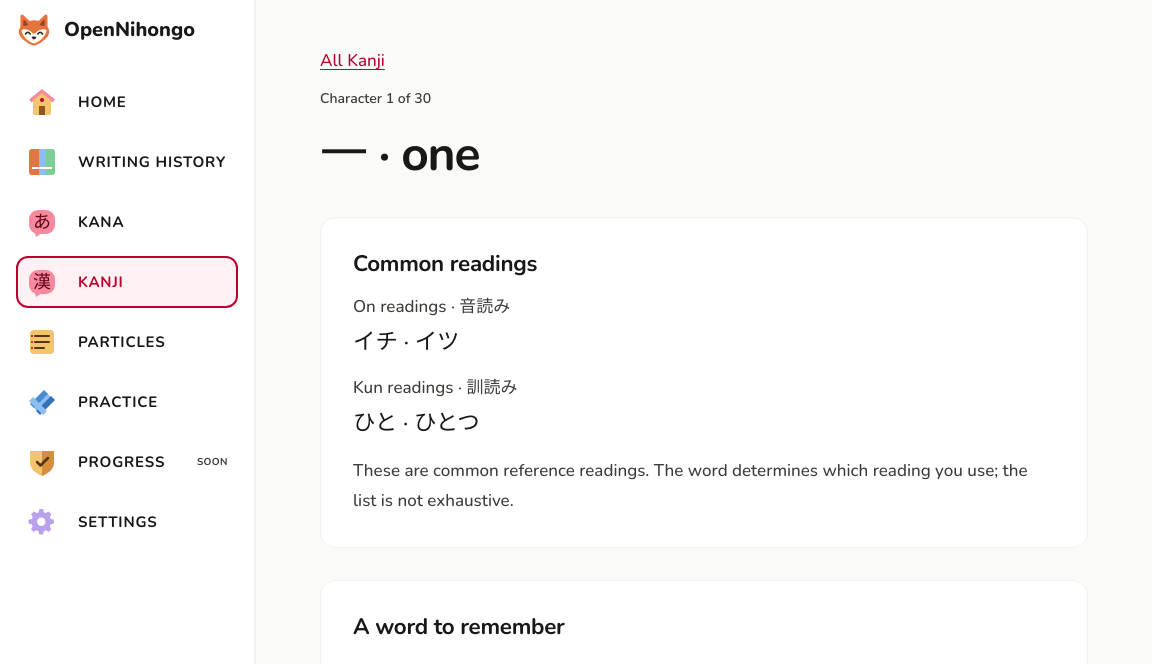
Test: supports keyboard answers and resets feedback when changing characters
Expected: the heading "一 · one" is shown, [320, 121, 479, 187]
Press Enter
(page scrolled)
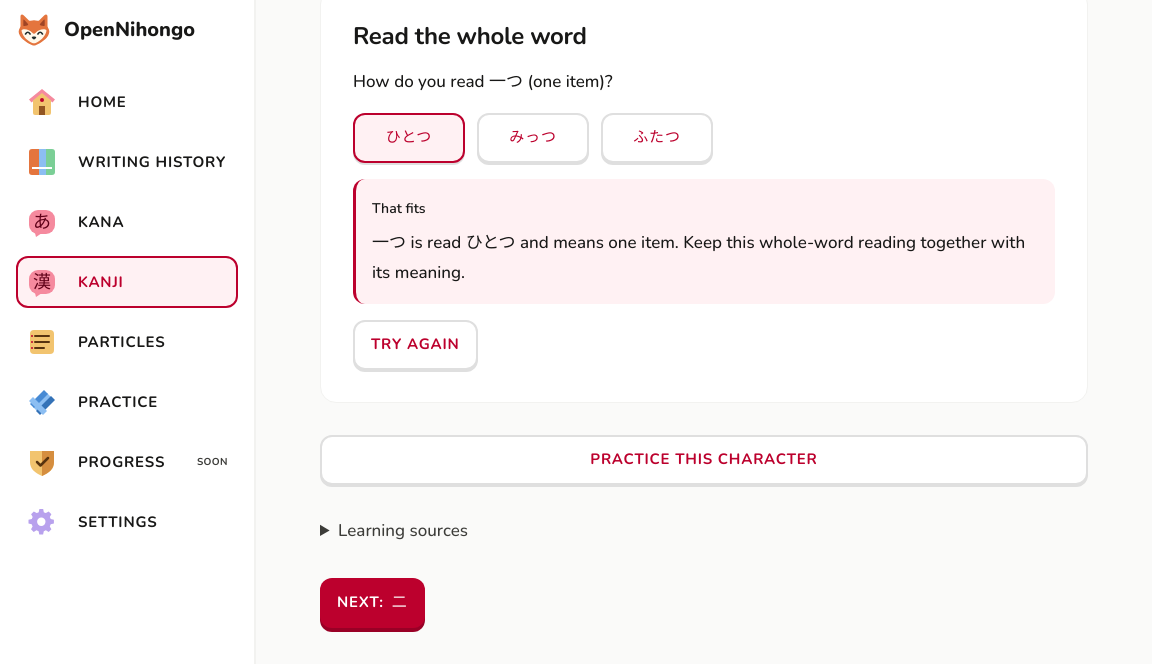
Now the message shows "That fits", box [372, 199, 426, 218]
Type keys " "
(page scrolled)
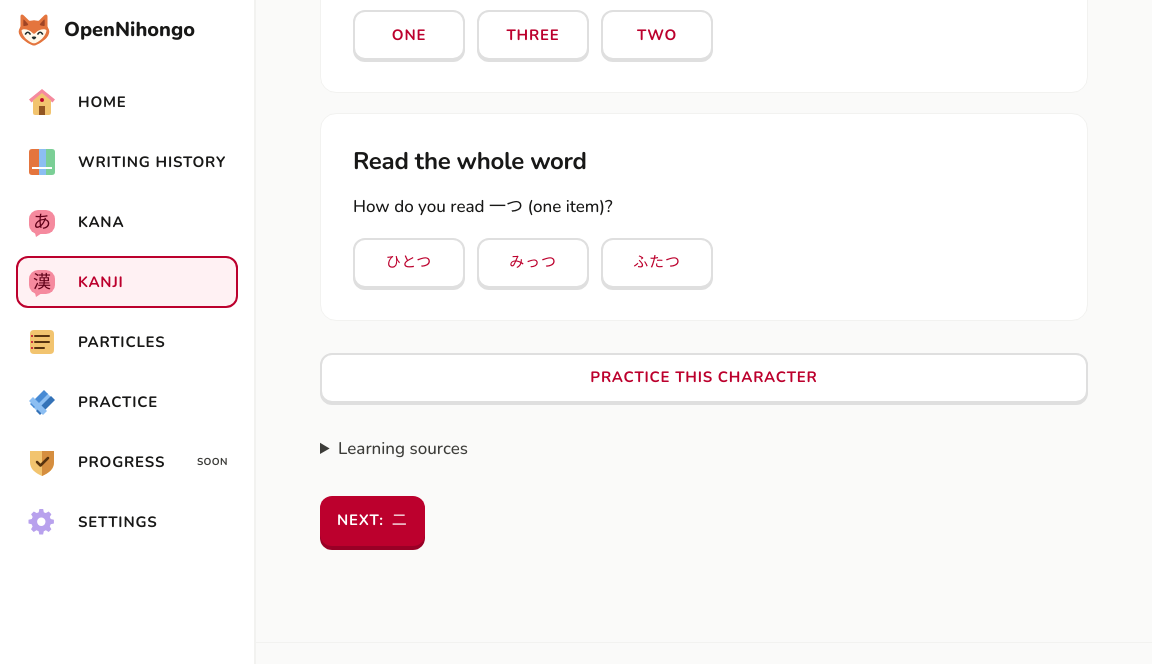
Now the message is gone
Click the button "ふたつ" at coordinates (657, 263), box [601, 238, 713, 288]
(page scrolled)
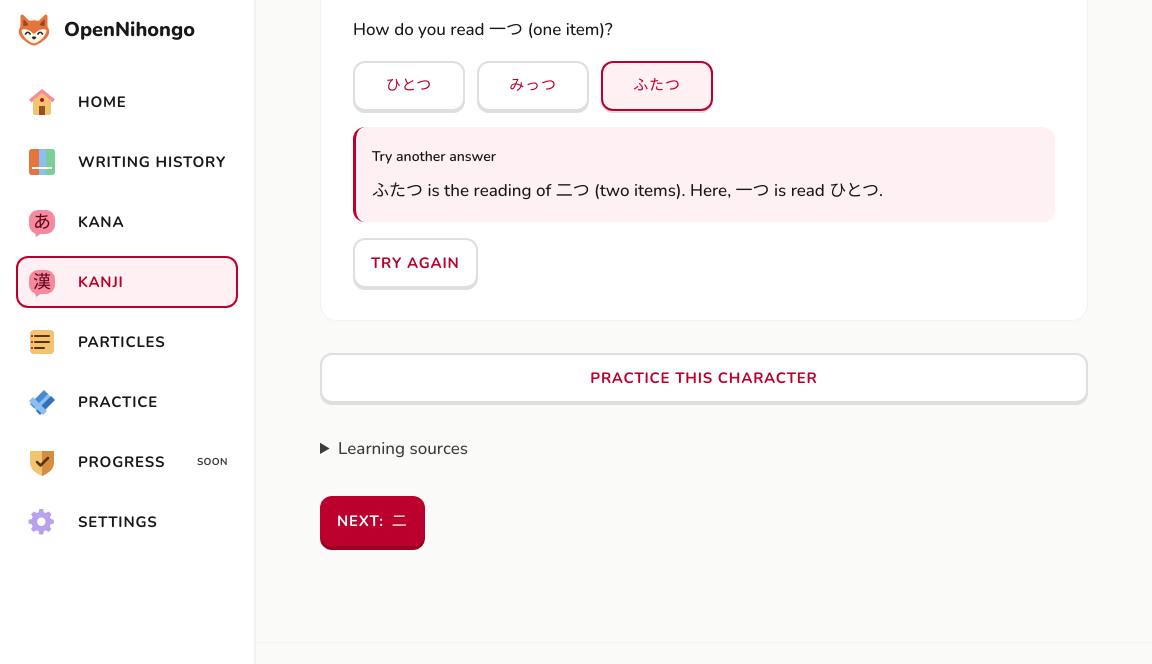
Click the link "Next: 二" at coordinates (372, 521), box [320, 496, 425, 546]
(page scrolled)
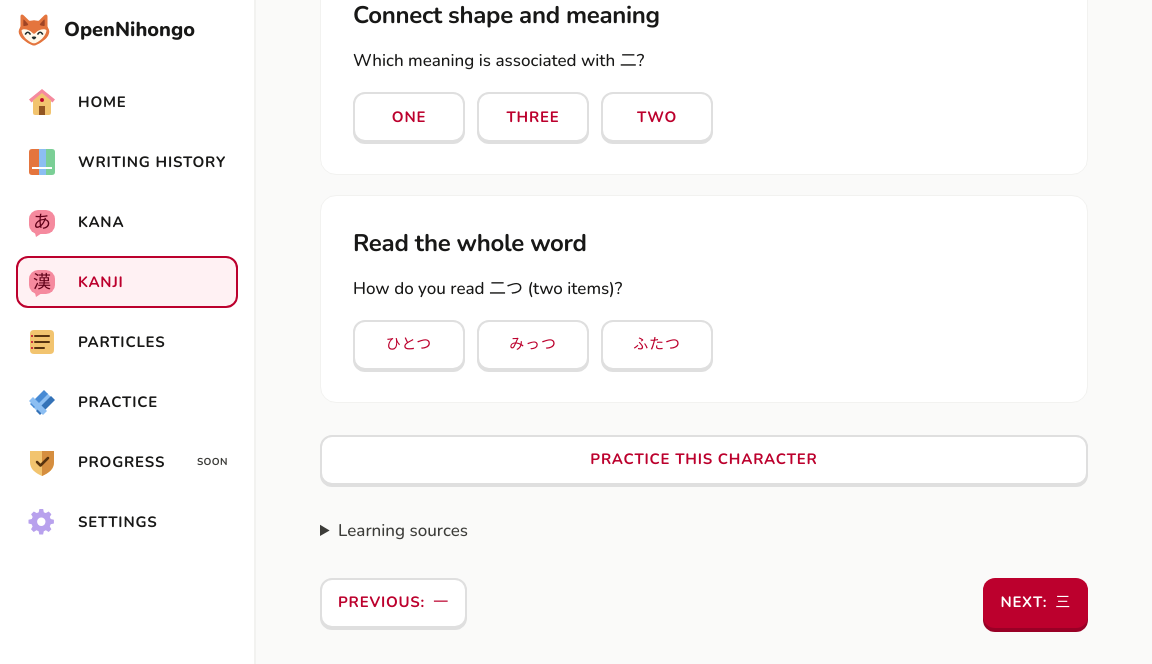
Now the message "Try another answer ふたつ is the reading of 二つ (two items). Here, 一つ is read ひとつ." is gone
